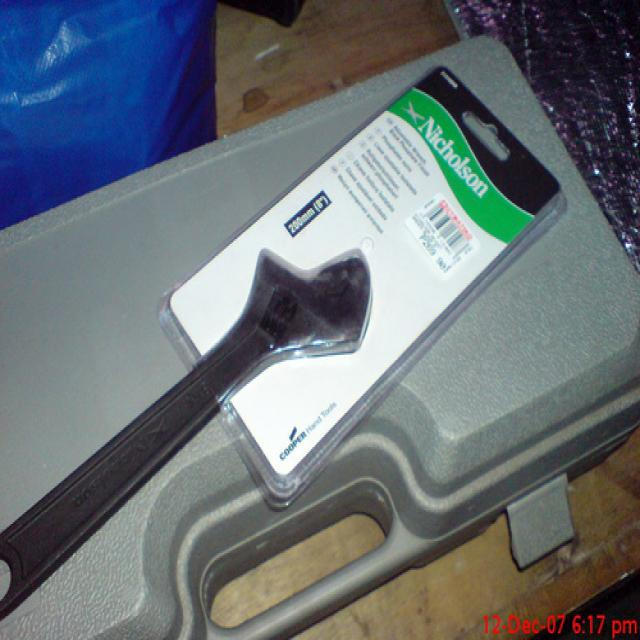wrench: (0, 227, 410, 562)
